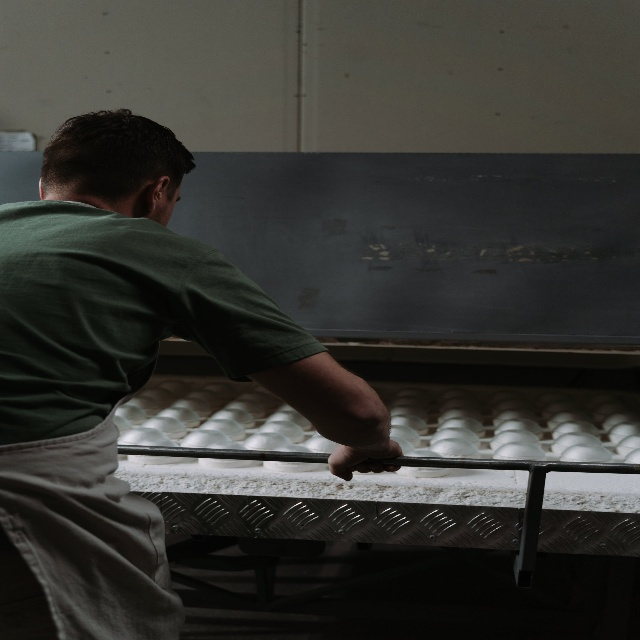Sin_guantes: (327, 437, 404, 482)
